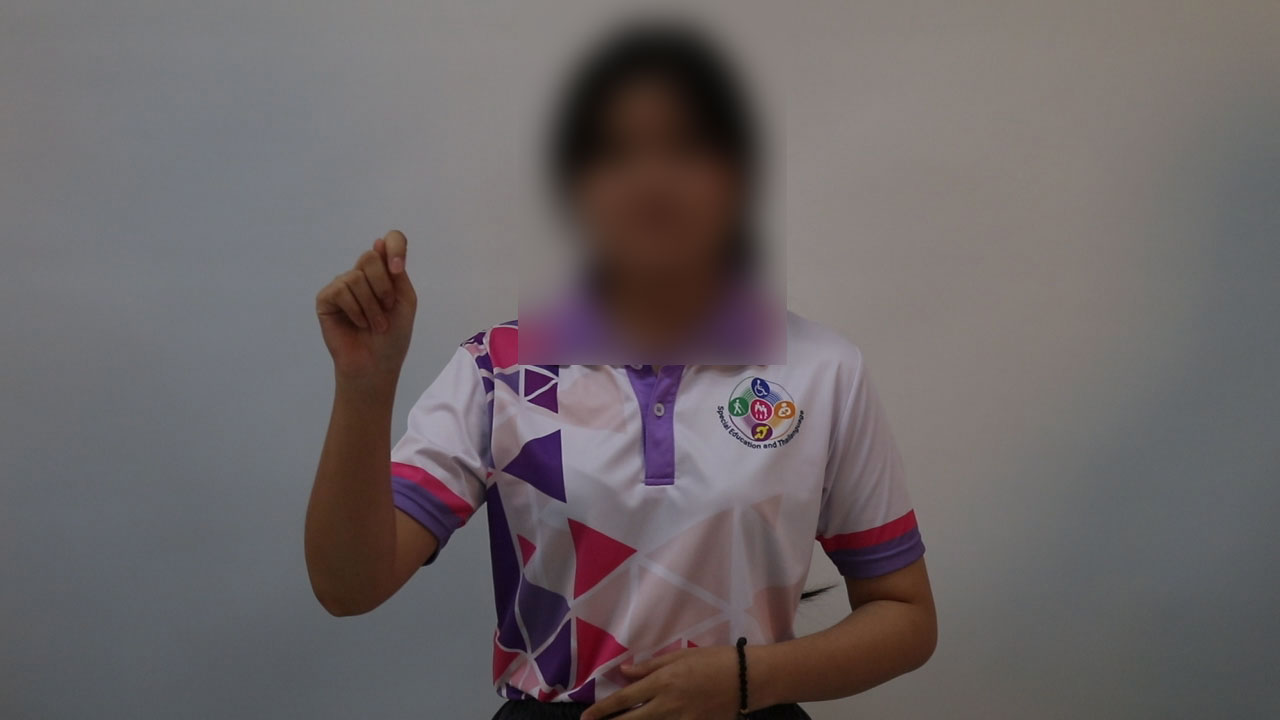tor: (298, 216, 460, 399)
